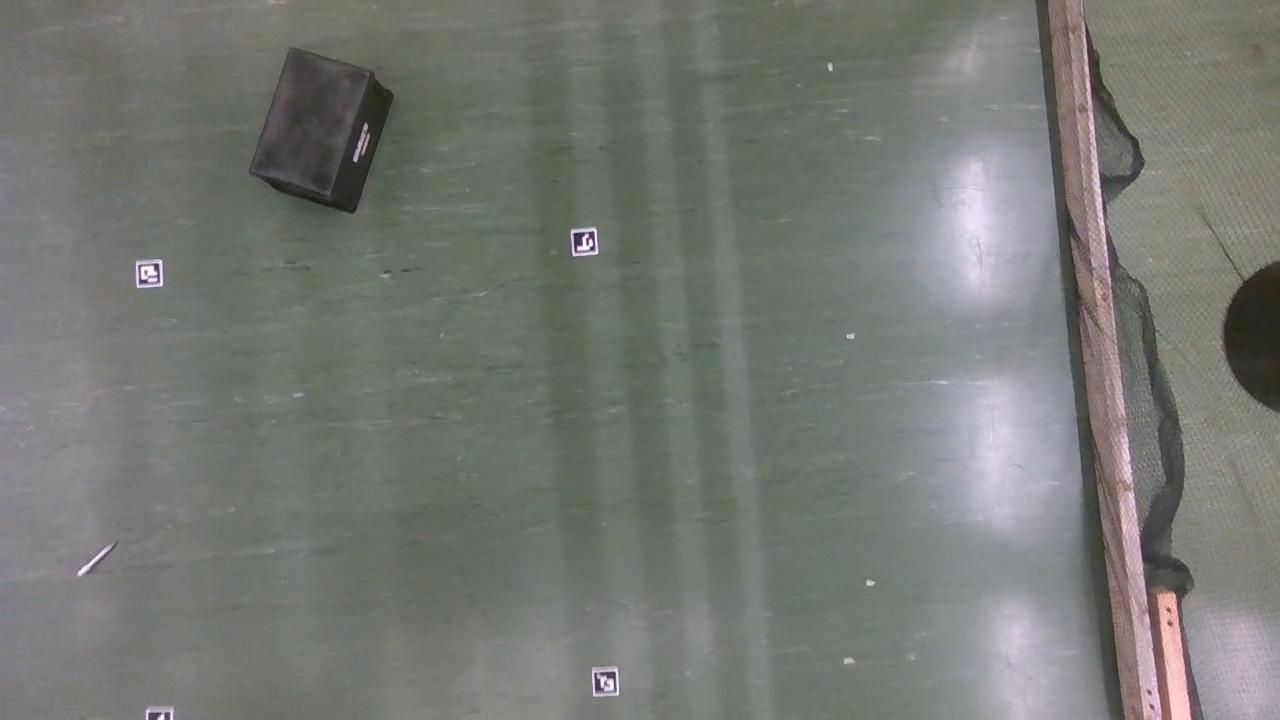probes: (76, 541, 115, 576)
rako: (247, 48, 393, 215)
